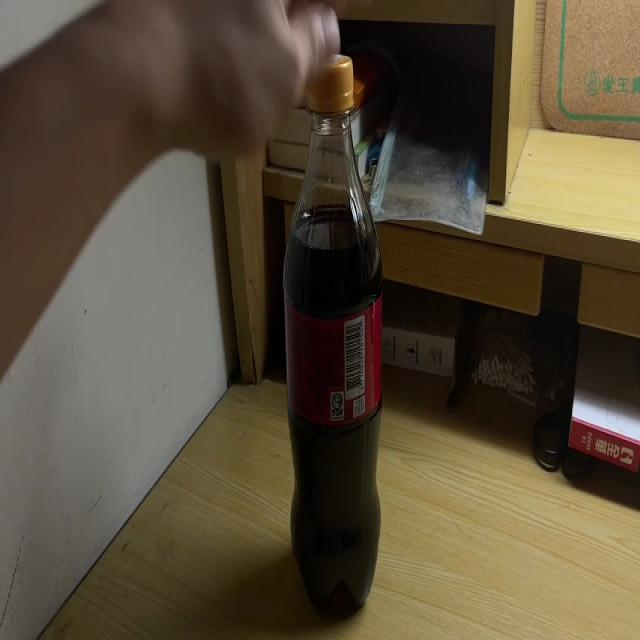Coca-Cola: (286, 50, 384, 616)
